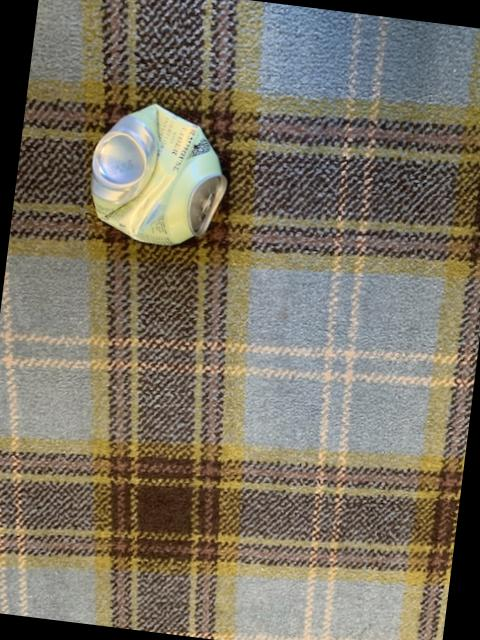metal: (89, 101, 225, 242)
